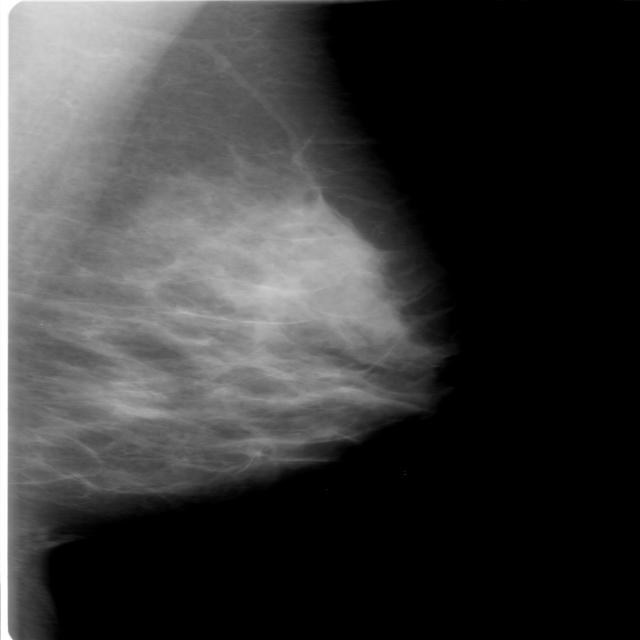normal: (0, 0, 433, 515)
